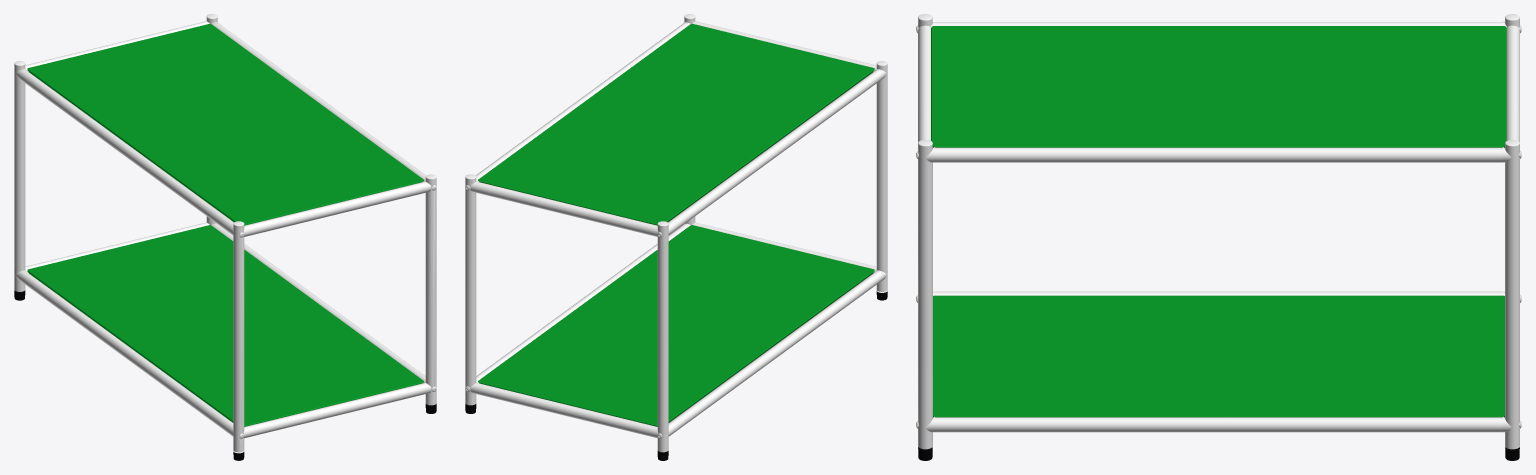
Rendered from 80x40x40-1-1-green_optimized_optimized.glb.
3 renders of one model, left to right at view 1: azimuth 30°, elevation 25°; view 2: azimuth 150°, elevation 25°; view 3: azimuth 270°, elevation 25°, orthographic. The views are drawn at different scales.
Visible parts, largest first — view 1: 直角鐵板-80x40-5 - 零件, new-上塞-1 - 零件; view 2: 直角鐵板-80x40-5 - 零件, new-上塞-1 - 零件; view 3: 直角鐵板-80x40-5 - 零件, new-上塞-1 - 零件.
Boxes of the visible parts, x1,y1,x2,y2 form: 直角鐵板-80x40-5 - 零件: [27, 23, 423, 426]; new-上塞-1 - 零件: [14, 14, 436, 460]; 直角鐵板-80x40-5 - 零件: [478, 23, 874, 426]; new-上塞-1 - 零件: [465, 14, 887, 452]; 直角鐵板-80x40-5 - 零件: [931, 26, 1506, 417]; new-上塞-1 - 零件: [916, 14, 1521, 449].
Bounding box in the file's own units: 0.3992 × 0.4453 × 0.7732.
